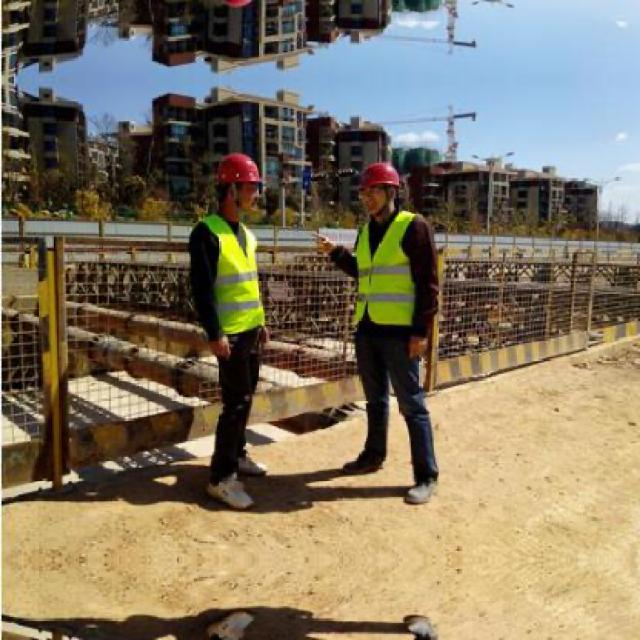con casco: (190, 124, 282, 262), (343, 139, 428, 274)
